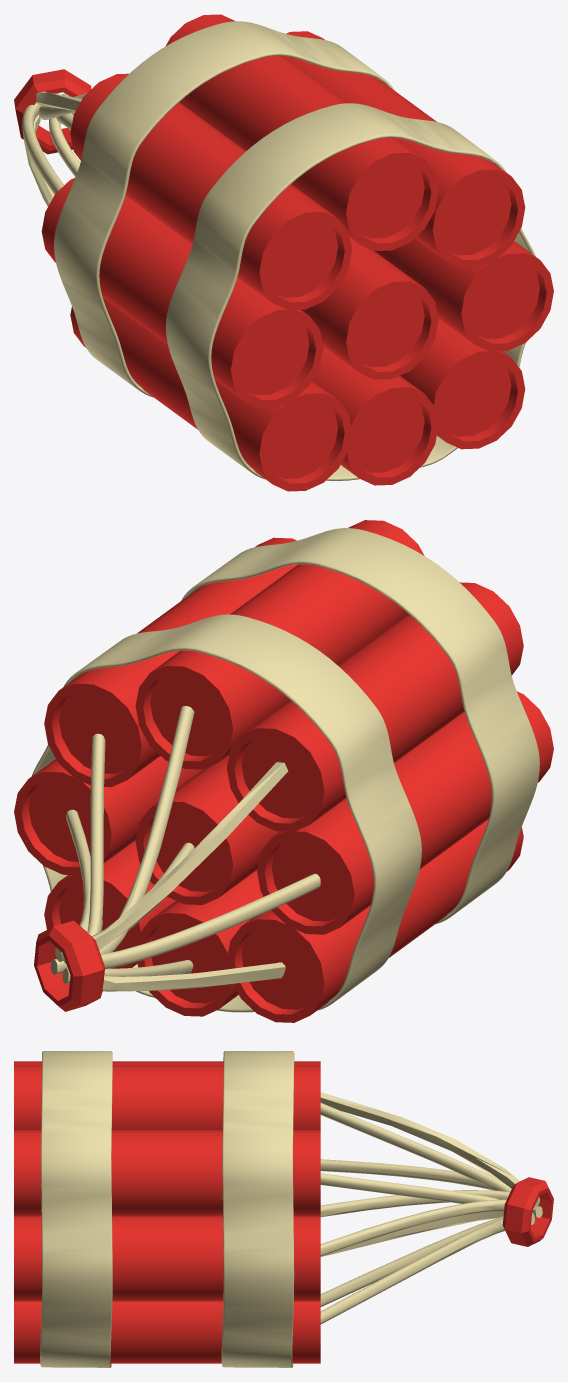
The model's file is dynamitePack.fbx.
3 views of the same model, one above another, from view 1: azimuth 30°, elevation 25°; view 2: azimuth 150°, elevation 25°; view 3: azimuth 270°, elevation 25° (orthographic). The views are drawn at different scales.
Visible parts, largest first — view 1: Circle.018; view 2: Circle.018; view 3: Circle.018.
Boxes of the visible parts, left/top/right/bottom form: Circle.018: left=14, top=14, right=553, bottom=491; Circle.018: left=14, top=520, right=553, bottom=1022; Circle.018: left=14, top=1051, right=553, bottom=1367.
Bounding box in the file's own units: 0.5922 × 0.5834 × 1.03.
